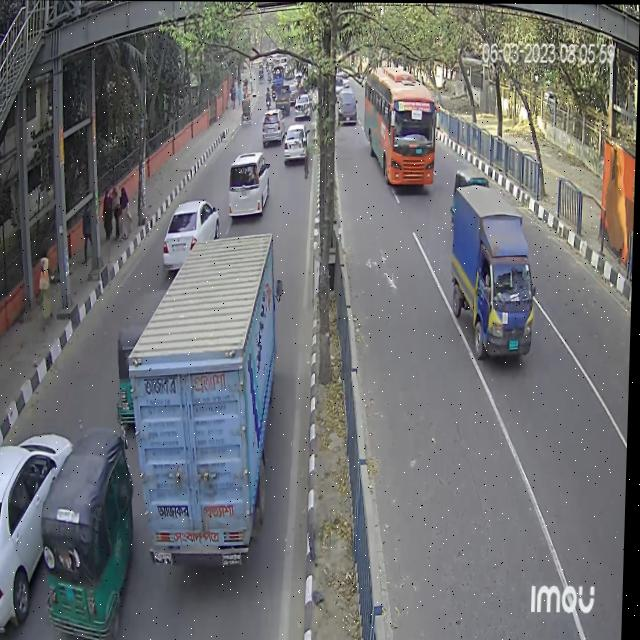cng: (47, 420, 139, 640)
rikshaw: (239, 91, 255, 127)
